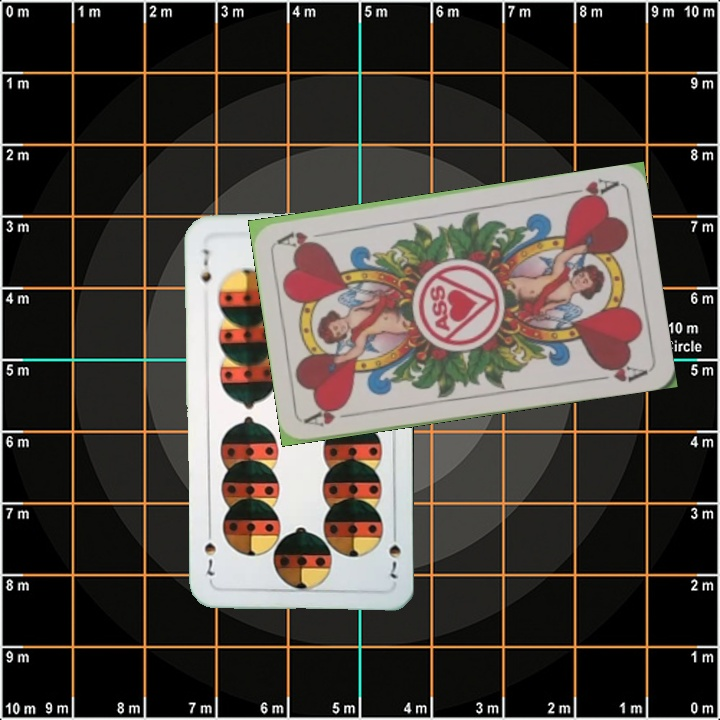HA: (562, 174, 621, 206), (303, 401, 362, 430)
S7: (385, 525, 403, 581), (197, 245, 214, 288)
